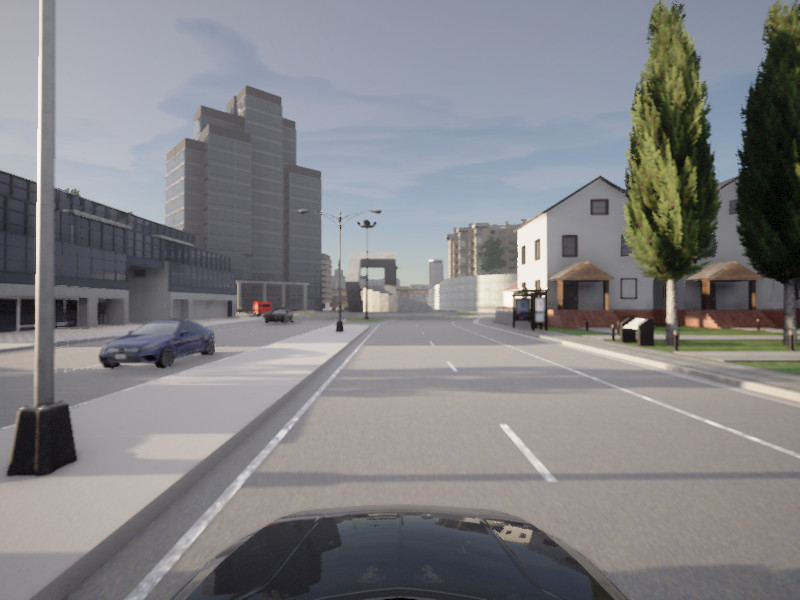vehicle: (88, 317, 222, 372), (260, 307, 295, 324)
